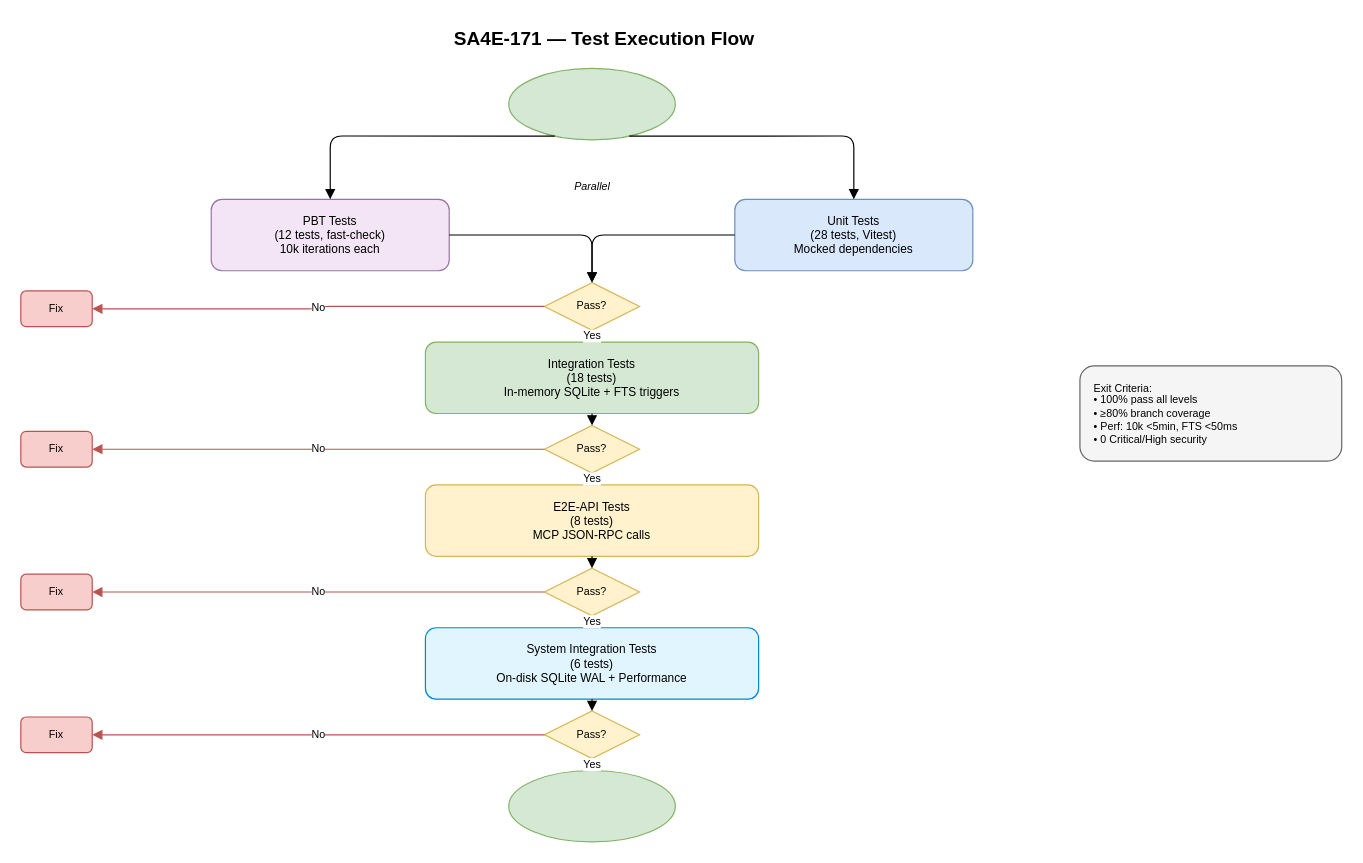
The diagram is 1363 pixels wide and 863 high, and some of its shapes have lost their labels. The shapes that lost their labels are listed below. From the top down, each one's box as (x1, y1, x2, y2) in pixels, then its label:
(508, 67, 675, 140): Build Pass (npm run build)
(508, 769, 675, 842): Test Report Generated
